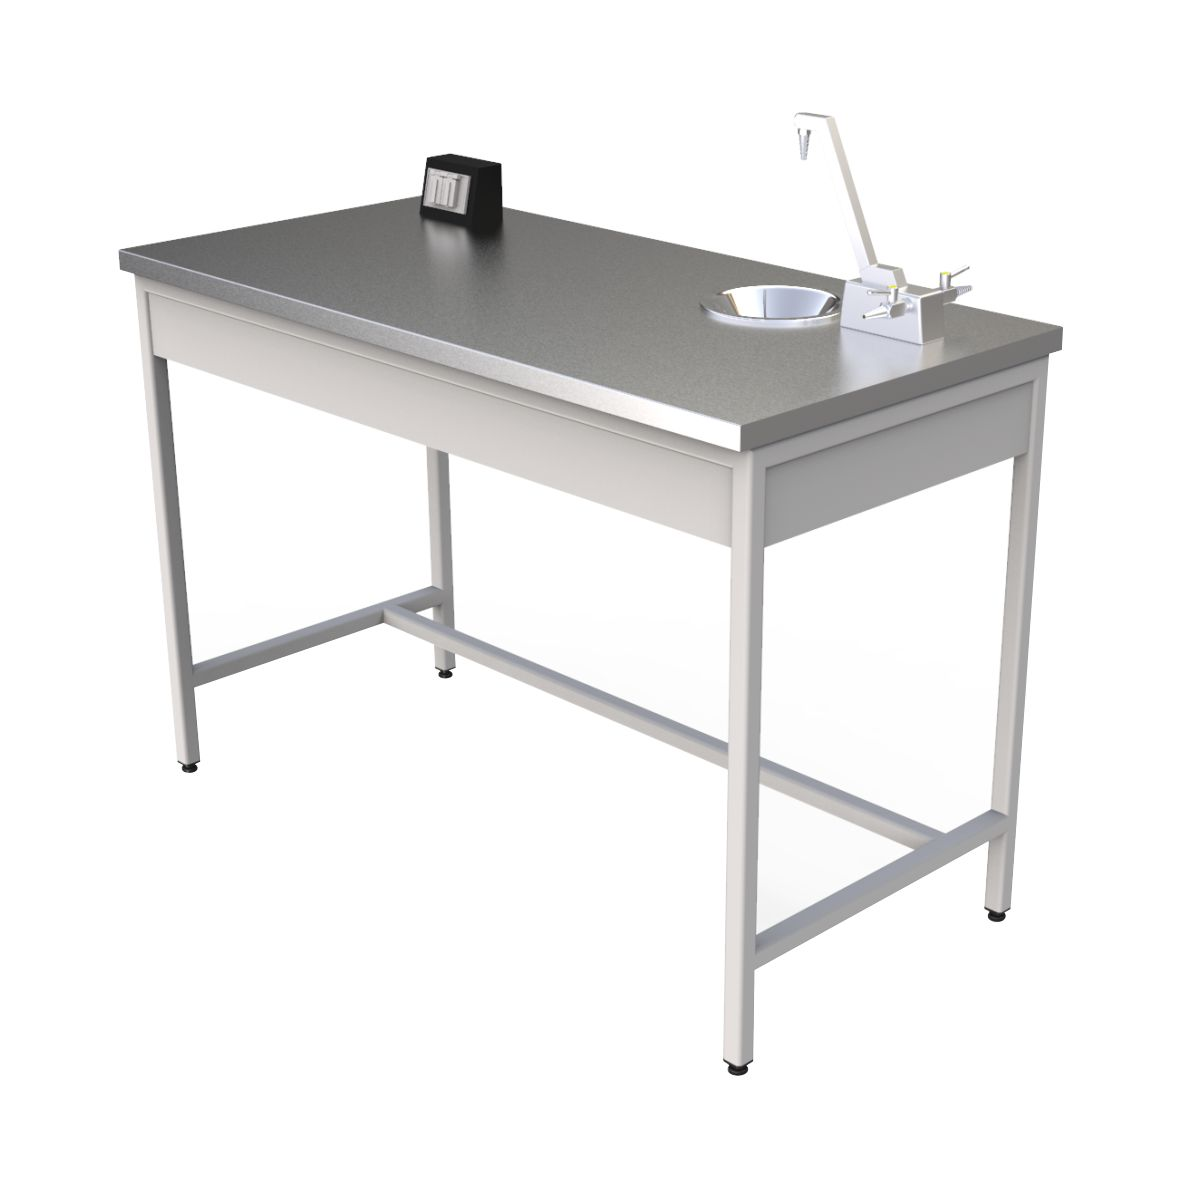m01: (118, 192, 1061, 1072)
